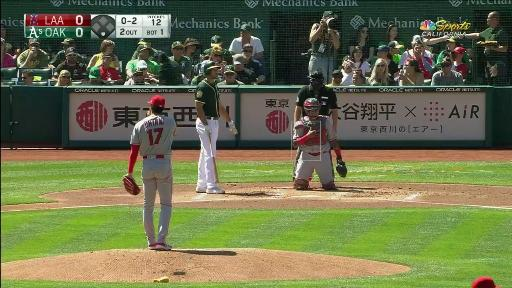pitcher: (123, 95, 178, 250)
